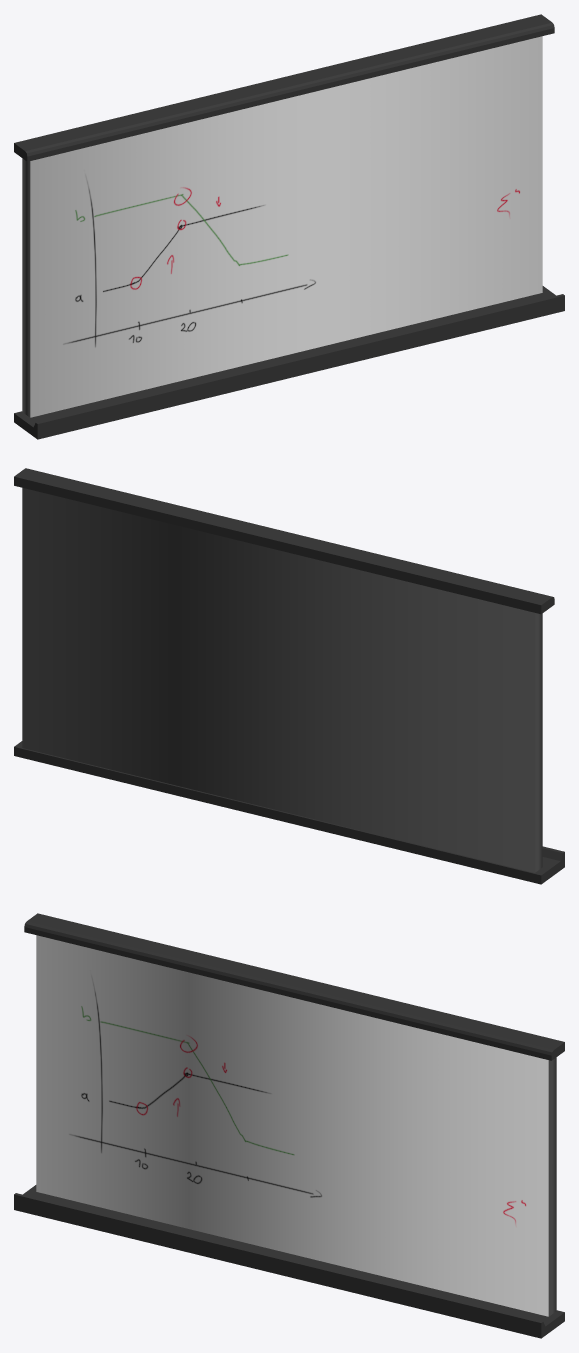
Rendered from whiteboard.glb.
3 views of the same model, one above another, from view 1: azimuth 30°, elevation 25°; view 2: azimuth 150°, elevation 25°; view 3: azimuth 330°, elevation 25° (orthographic).
Parts seen in each view (by area): view 1: WhiteBoard_Big; view 2: WhiteBoard_Big; view 3: WhiteBoard_Big.
Boxes of the visible parts, x1,y1,x2,y2 form: WhiteBoard_Big: (14, 14, 564, 439); WhiteBoard_Big: (14, 468, 564, 884); WhiteBoard_Big: (14, 913, 564, 1338).
Bounding box in the file's own units: 2.06 × 1.04 × 0.1601.
2 materials, 2 textured.
